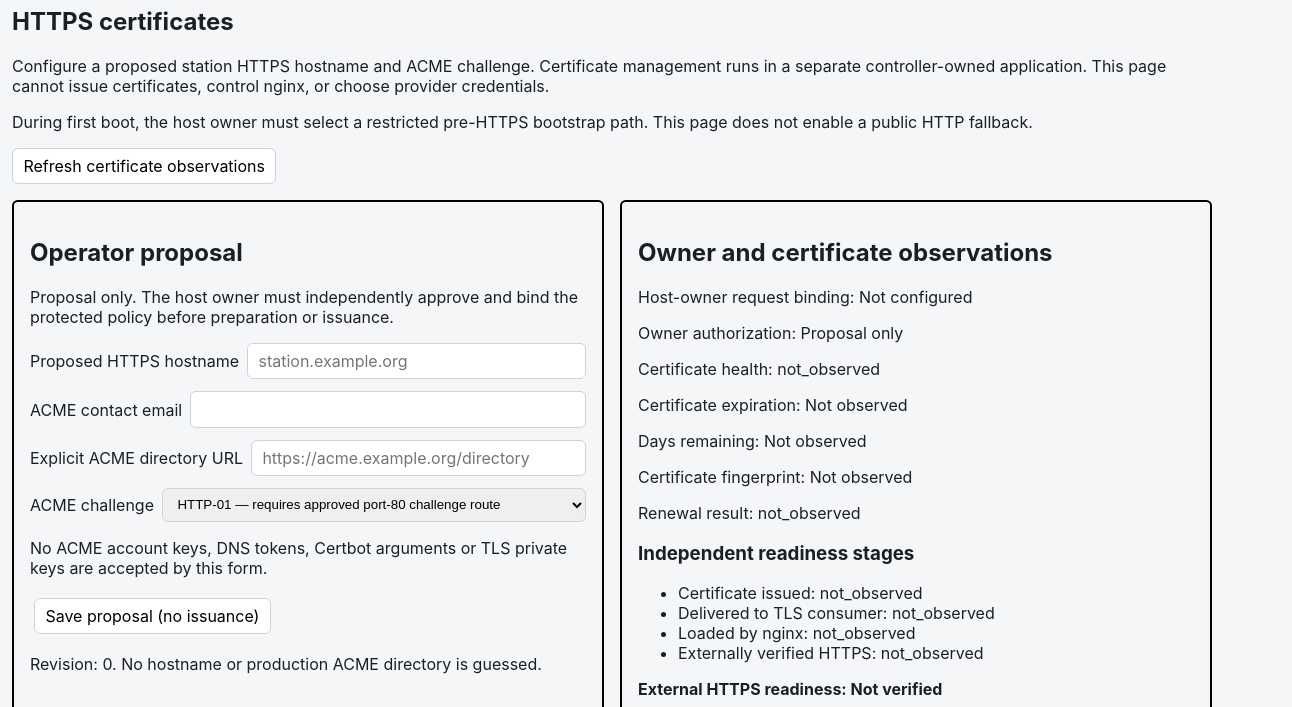
Test: status failure clears old observations and never exposes raw error
Check: the text "Owner authorization: Proposal only" is shown, box x1=638 y1=323 x2=903 y2=343
Click the button "Refresh certificate observations" at (144, 166), box x1=12 y1=148 x2=276 y2=184
(page scrolled)
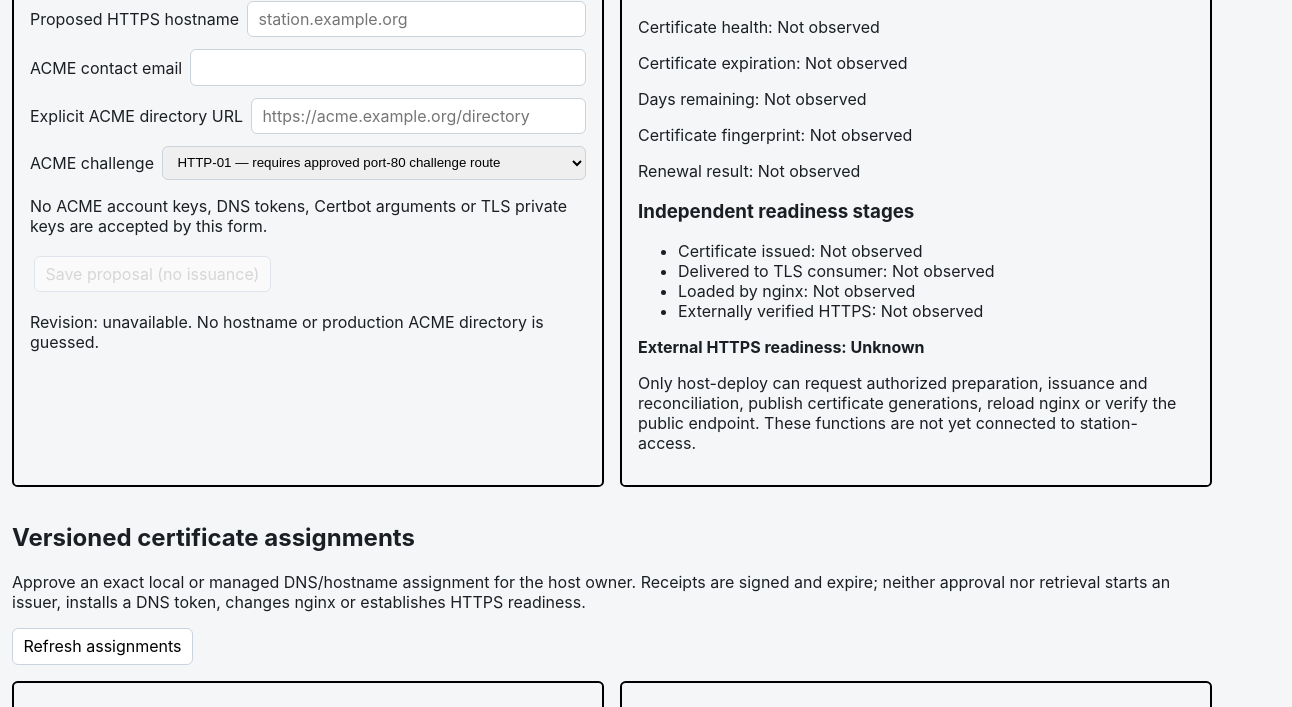
Check: the text "External HTTPS readiness: Unknown" is shown, box x1=638 y1=337 x2=925 y2=357
